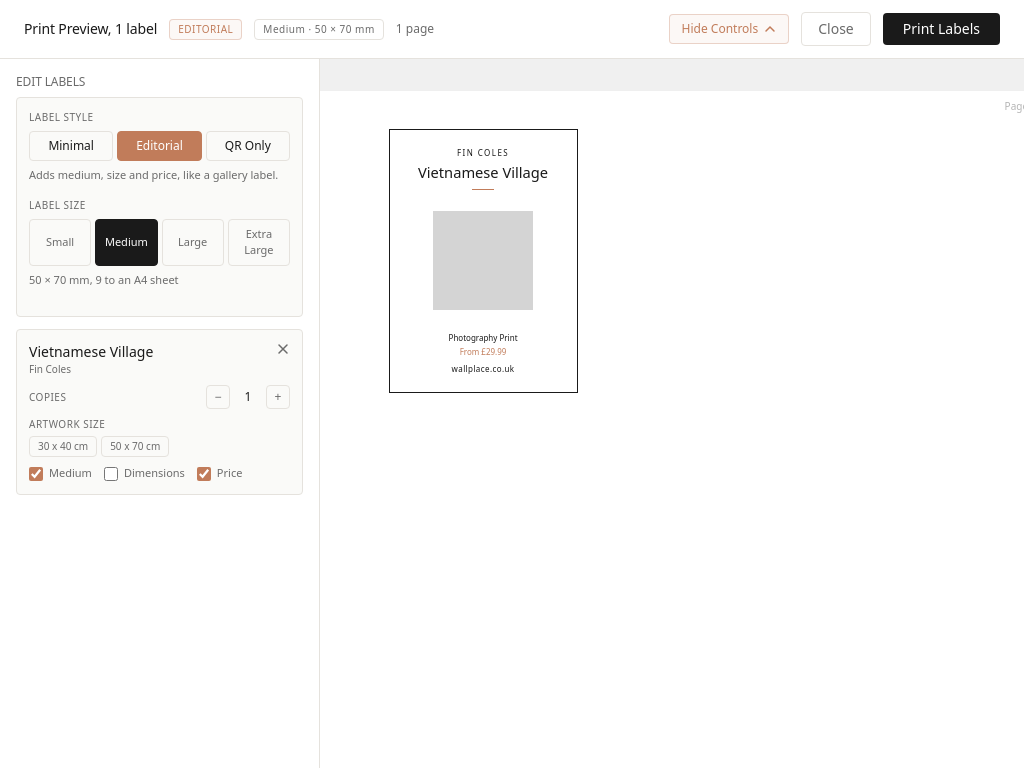
<LabelPreview /> sidebar › offers each work's own sizes to print on its label
Click the button "50 x 70 cm": (135, 447) [101,436,169,457]
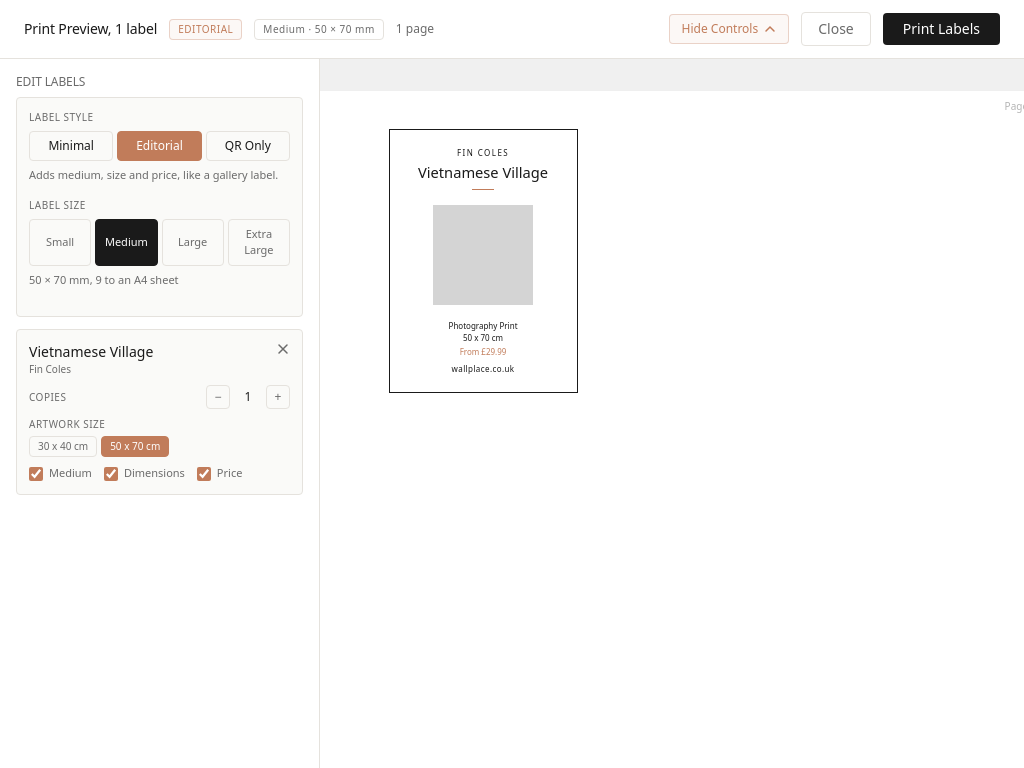
Now the text "50 x 70 cm" is shown, box [463,332,503,342]
